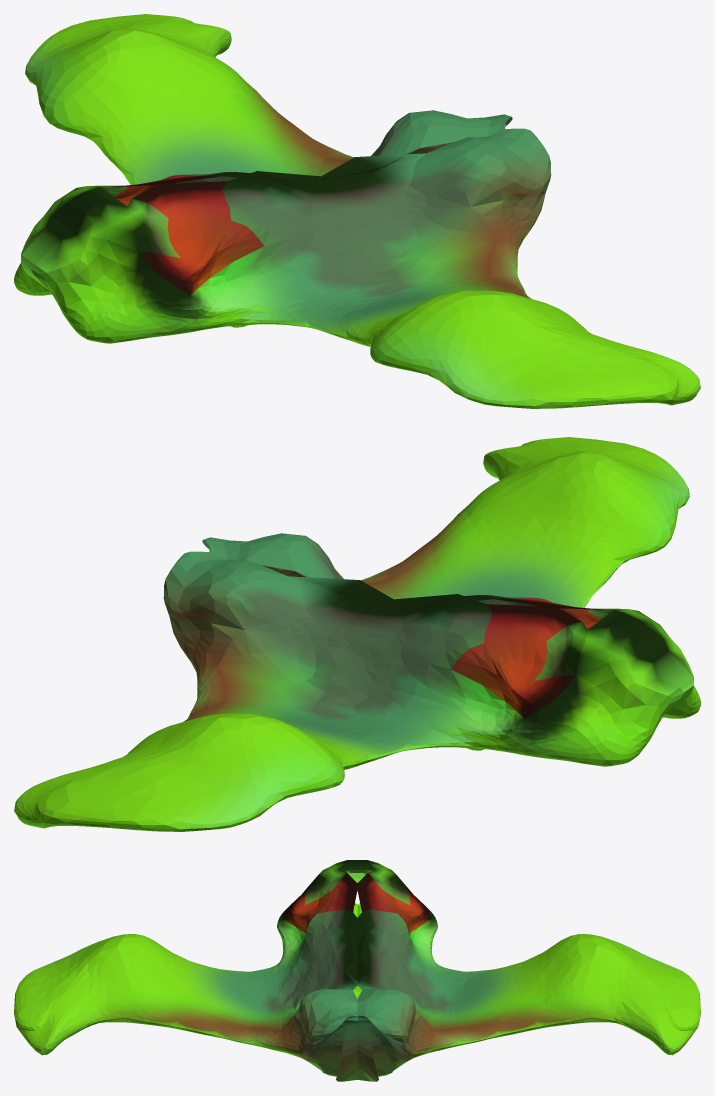
3 renders of one model, top to bottom at view 1: azimuth 30°, elevation 25°; view 2: azimuth 150°, elevation 25°; view 3: azimuth 270°, elevation 25°, orthographic. The views are drawn at different scales.
Parts seen in each view (by area): view 1: Cube; view 2: Cube; view 3: Cube.
Boxes of the visible parts, x1,y1,x2,y2 form: Cube: [14, 14, 700, 408]; Cube: [14, 437, 700, 831]; Cube: [14, 860, 700, 1081].
Bounding box in the file's own units: 4.76 × 8.5 × 1.36.
